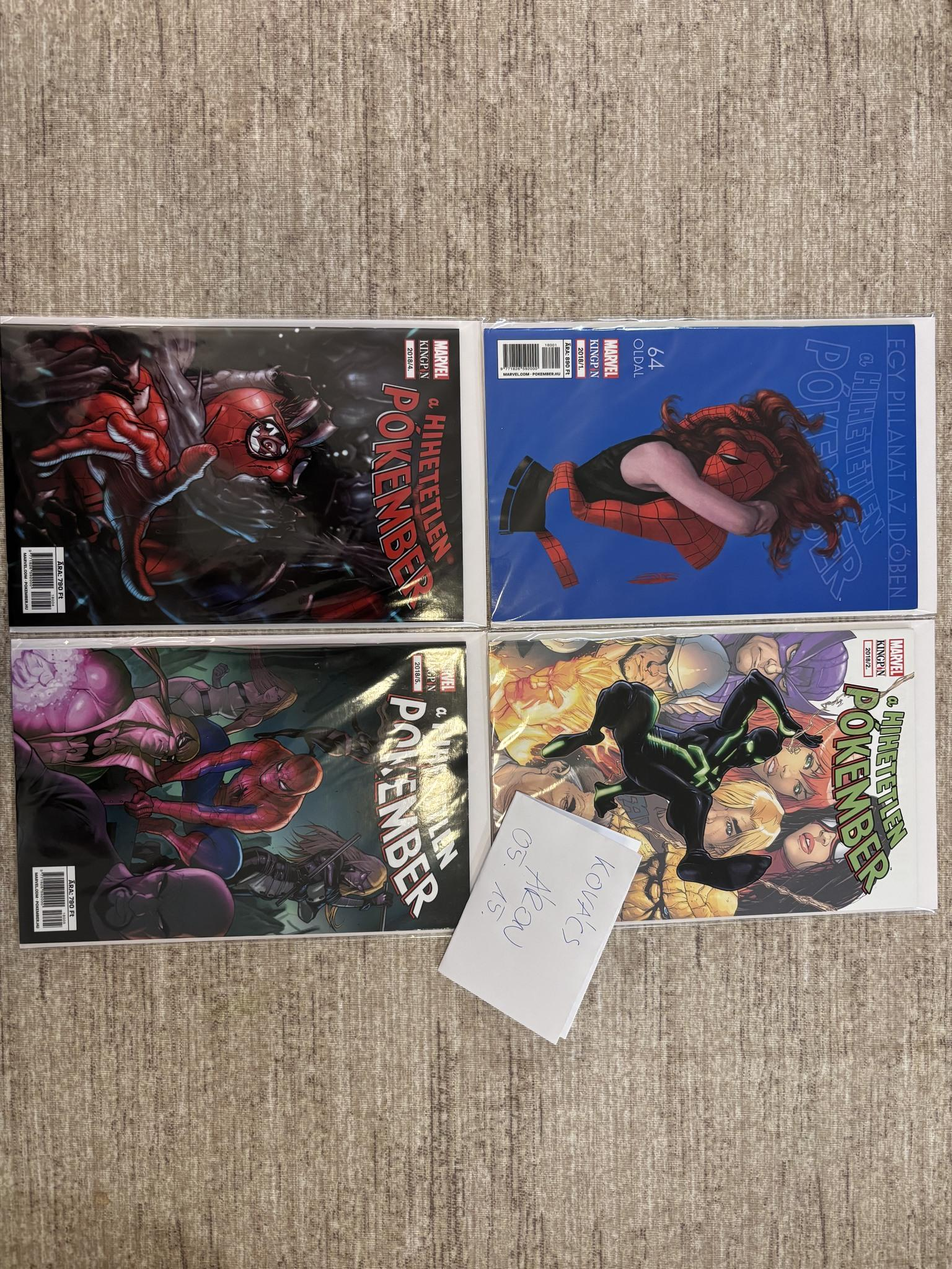comic: (10, 625, 489, 945), (0, 320, 484, 629), (484, 319, 936, 623), (488, 620, 939, 924)
